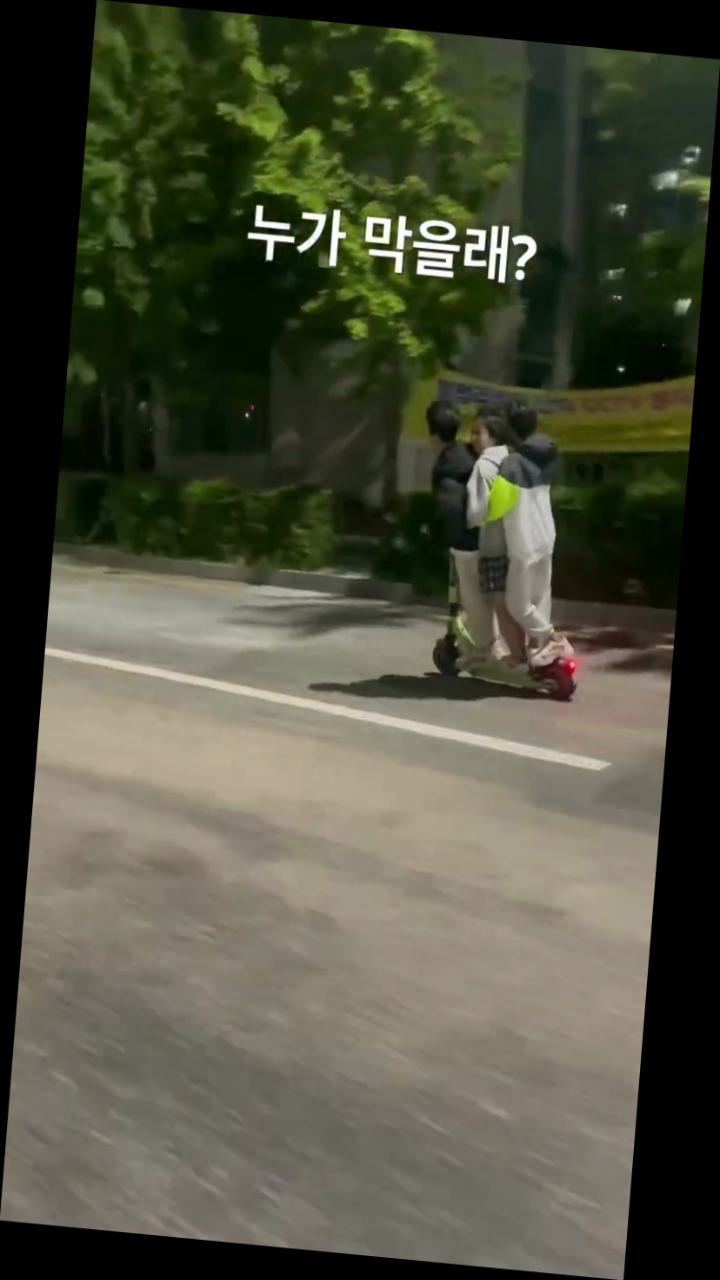multiple: (397, 389, 604, 703)
